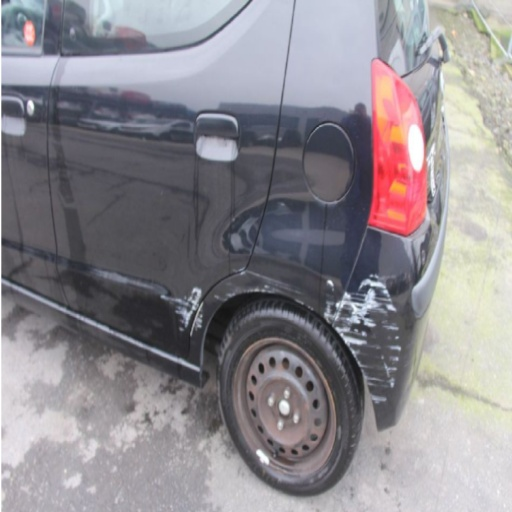rust: (233, 337, 335, 477)
scratch: (335, 327, 381, 369), (334, 289, 383, 327), (240, 269, 306, 295), (261, 284, 314, 311), (161, 285, 201, 312), (350, 297, 396, 312), (175, 304, 195, 329), (190, 301, 203, 336), (341, 307, 388, 315), (228, 283, 259, 295), (358, 278, 386, 291), (348, 293, 392, 301), (324, 301, 336, 325), (371, 395, 388, 403), (383, 322, 399, 330), (364, 375, 385, 381), (214, 295, 228, 303), (327, 280, 334, 293), (386, 345, 401, 351), (384, 362, 390, 377), (367, 383, 389, 387), (386, 378, 395, 387), (381, 290, 390, 298), (233, 267, 245, 272), (225, 293, 236, 298), (379, 368, 396, 371), (370, 274, 379, 278), (390, 357, 398, 361), (179, 327, 184, 331), (382, 319, 387, 323), (395, 336, 399, 339), (382, 356, 384, 359)
